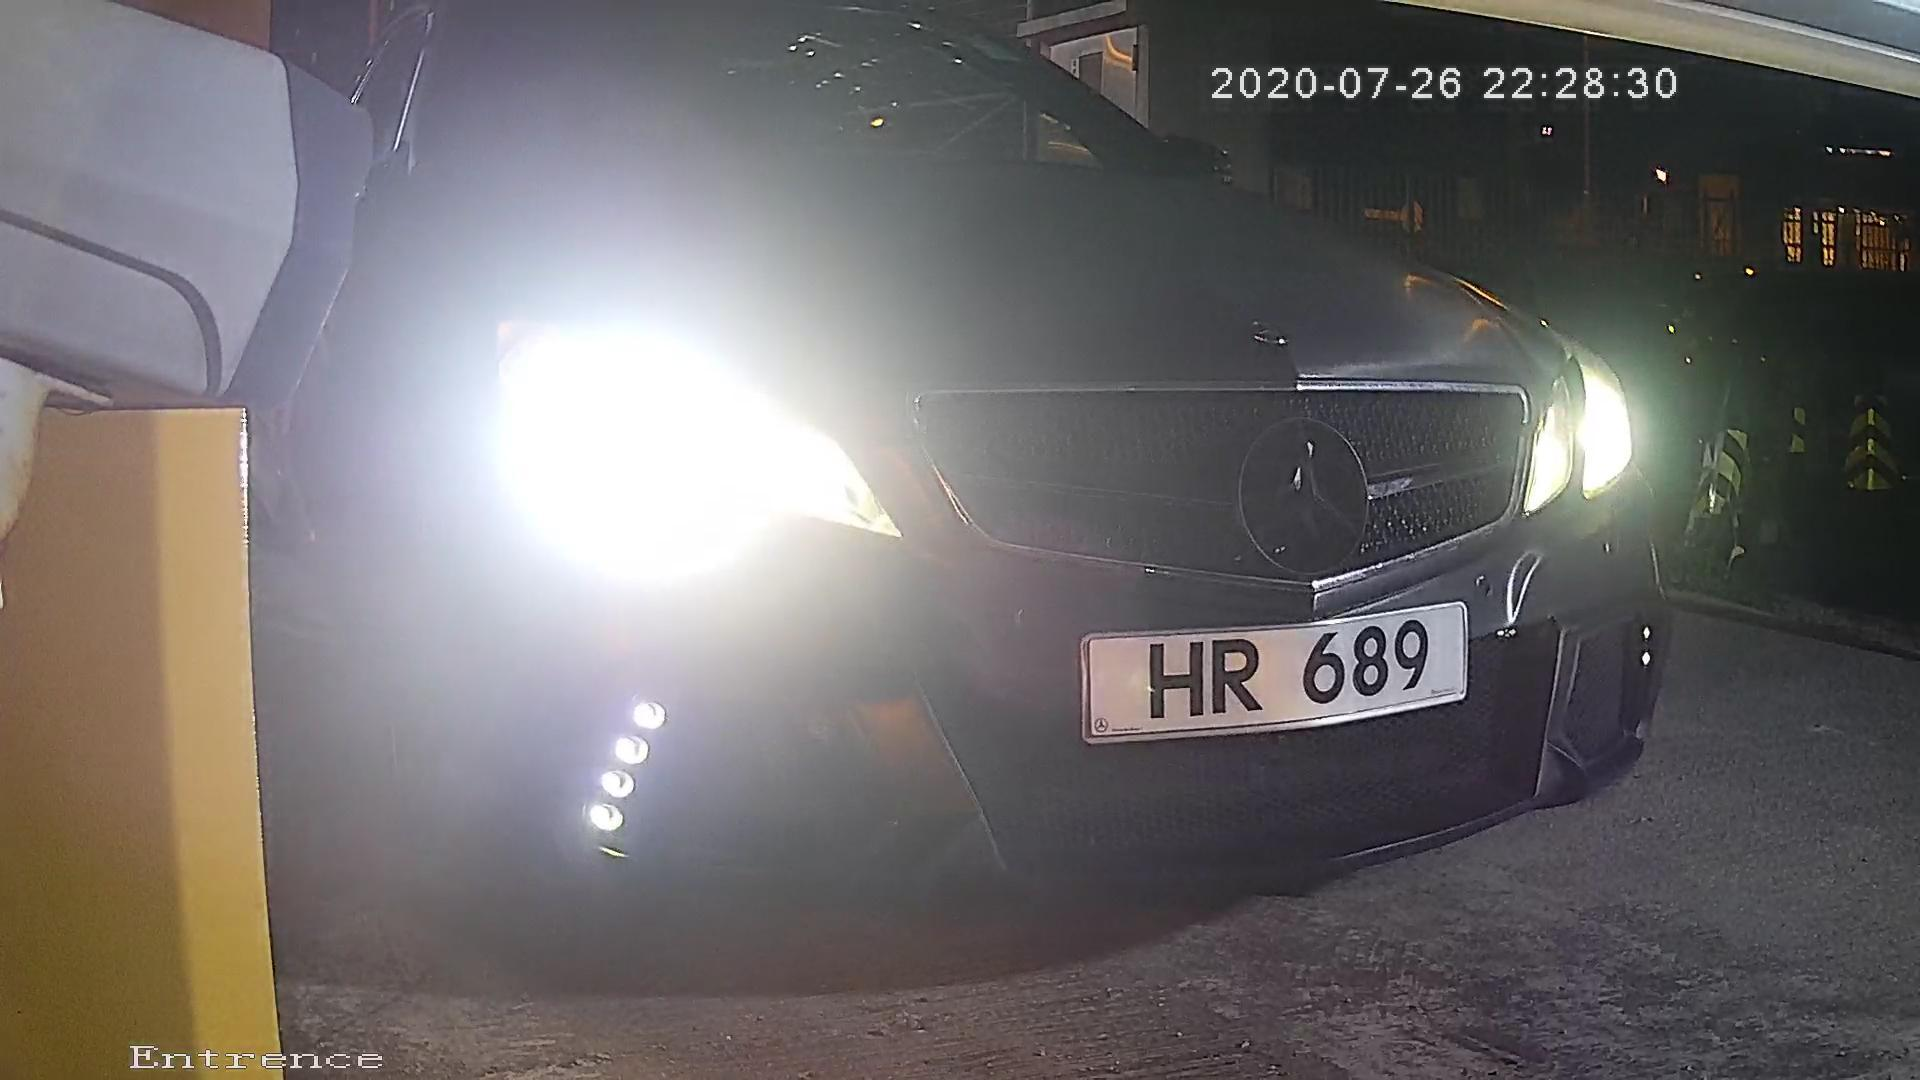Car: (61, 15, 1766, 974)
License Plate: (1055, 589, 1483, 743)
